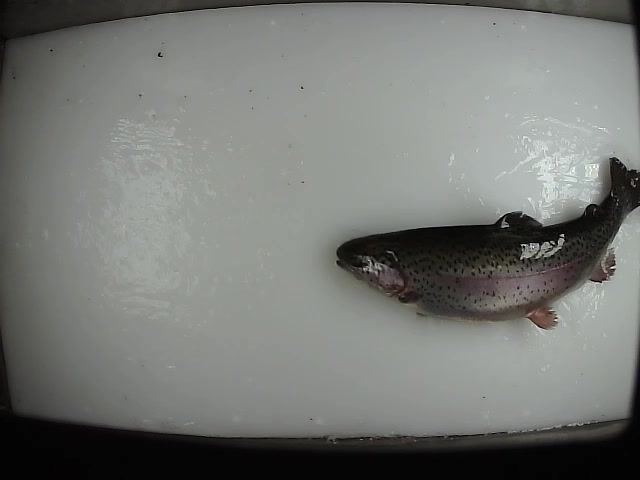Fish: (336, 158, 640, 332)
